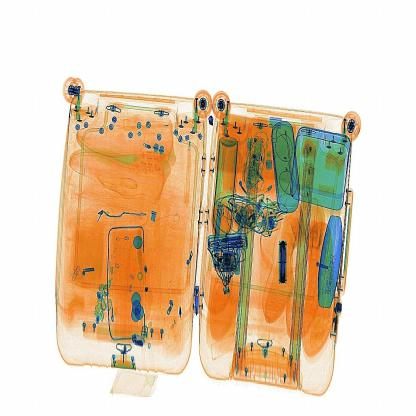scissors: (270, 234, 298, 296)
